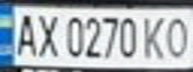0: (60, 11, 84, 60), (118, 12, 142, 60)
2: (81, 12, 103, 60)
7: (100, 12, 121, 60)
A: (12, 9, 39, 57)
K: (139, 12, 169, 61)
O: (163, 12, 193, 60)
X: (33, 10, 60, 58)
